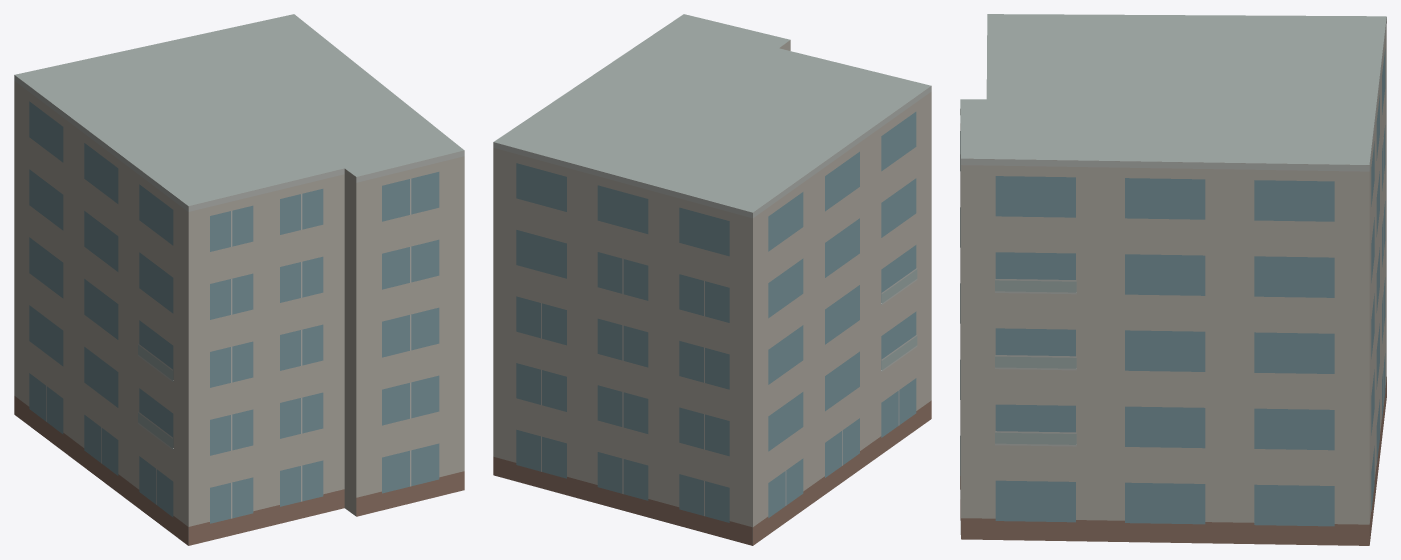
The model's file is survey-upis-33037978.glb.
3 views of the same model, side by side, from view 1: azimuth 30°, elevation 25°; view 2: azimuth 150°, elevation 25°; view 3: azimuth 270°, elevation 25° (orthographic). The views are drawn at different scales.
Parts seen in each view (by area): view 1: survey-upis-33037978.tmp; view 2: survey-upis-33037978.tmp; view 3: survey-upis-33037978.tmp.
Boxes of the visible parts, box(x1,y1,x2,y2) form: survey-upis-33037978.tmp: box(14, 14, 464, 545); survey-upis-33037978.tmp: box(493, 14, 931, 545); survey-upis-33037978.tmp: box(960, 14, 1386, 545).
Size of the model in its own units: 12.11 by 14.2 by 14.43.
